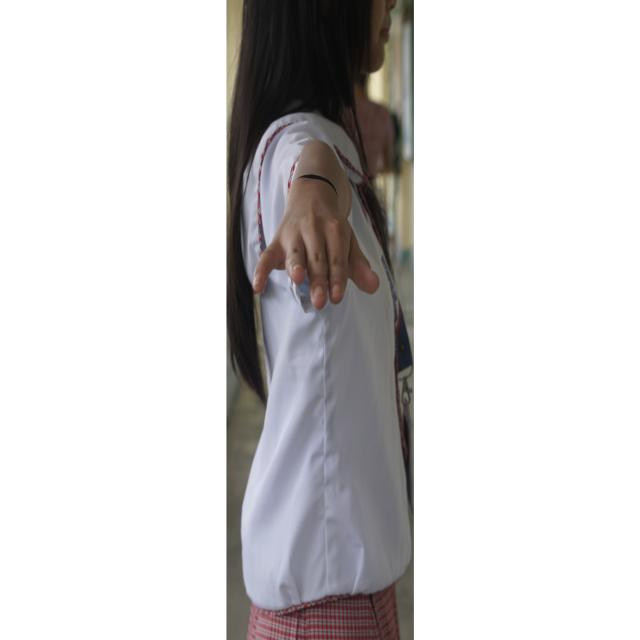pologirl: (241, 113, 411, 610)
